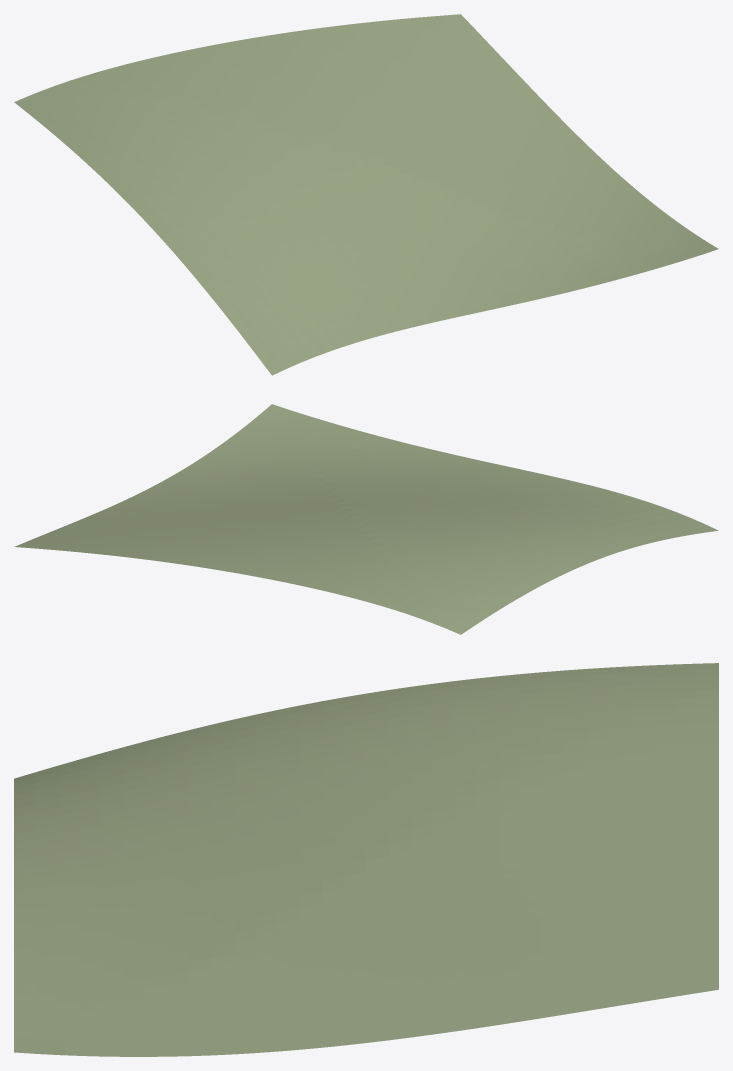
The model's file is expanse-12-19.glb.
3 renders of one model, top to bottom at view 1: azimuth 30°, elevation 25°; view 2: azimuth 150°, elevation 25°; view 3: azimuth 270°, elevation 25°, orthographic. The views are drawn at different scales.
Parts seen in each view (by area): view 1: expanse-12-19; view 2: expanse-12-19; view 3: expanse-12-19.
Part boxes in pixels (bbox=[...]): expanse-12-19: bbox=[14, 14, 718, 375]; expanse-12-19: bbox=[14, 404, 718, 634]; expanse-12-19: bbox=[14, 663, 718, 1056].
Bounding box in the file's own units: 256 × 52.14 × 256.
